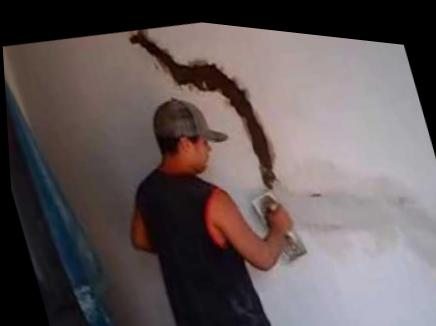damage: (129, 25, 276, 182)
